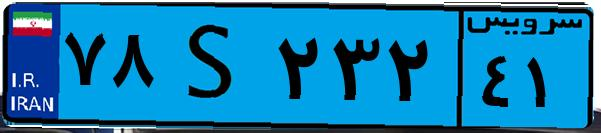1: (525, 38, 570, 115)
2: (270, 28, 330, 110), (385, 28, 445, 110)
3: (330, 28, 385, 110)
4: (475, 38, 525, 113)
7: (57, 26, 110, 100)
8: (110, 28, 158, 98)
S: (158, 12, 270, 120)
